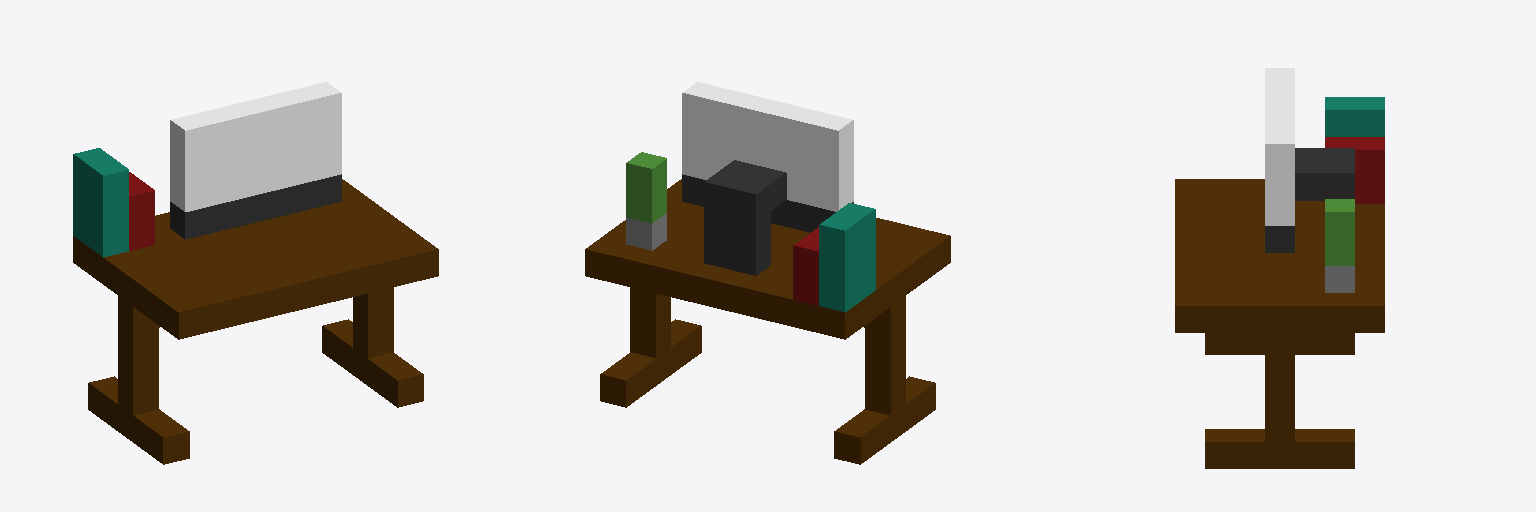
3 views of the same model, side by side, from view 1: azimuth 30°, elevation 25°; view 2: azimuth 150°, elevation 25°; view 3: azimuth 270°, elevation 25° (orthographic).
Bounding box in the file's own units: 10 × 11 × 7.
Materials: 1 (1 with a texture image).